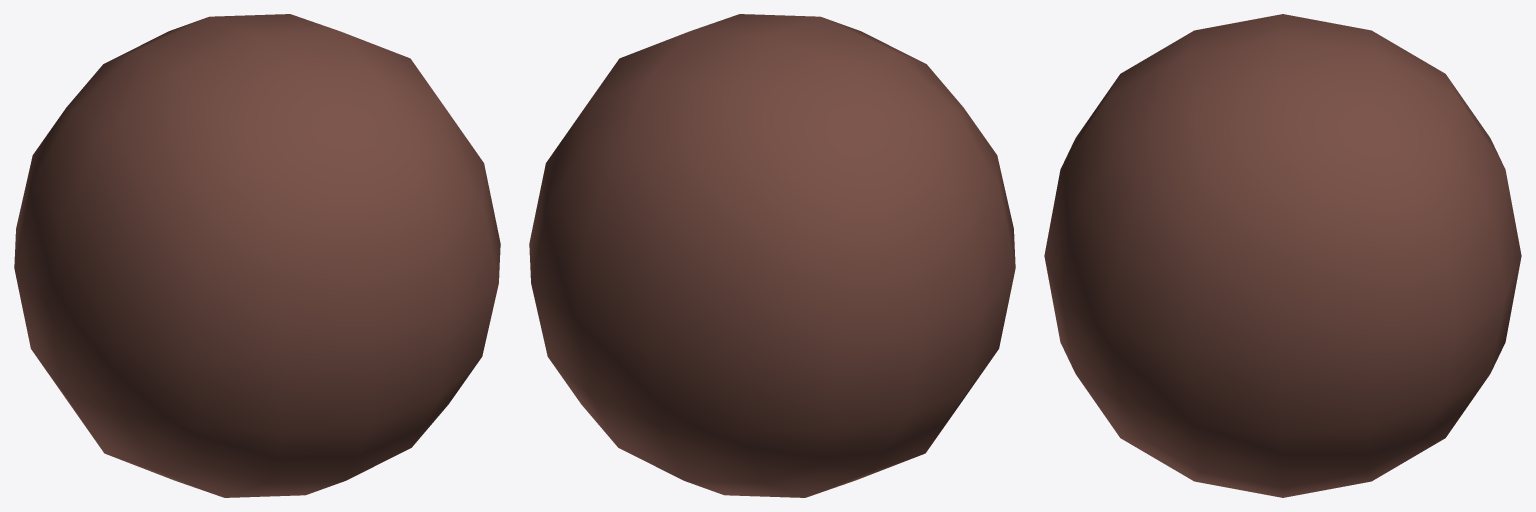
File: RedBall_Blockout.fbx
3 renders of one model, left to right at view 1: azimuth 30°, elevation 25°; view 2: azimuth 150°, elevation 25°; view 3: azimuth 270°, elevation 25°, orthographic.
Parts seen in each view (by area): view 1: Ball; view 2: Ball; view 3: Ball.
Part boxes in pixels (left/top/right/bottom): Ball: left=14, top=14, right=500, bottom=497; Ball: left=529, top=14, right=1015, bottom=497; Ball: left=1044, top=14, right=1521, bottom=497.
Size of the model in its own units: 14.19 by 14.19 by 14.19.
